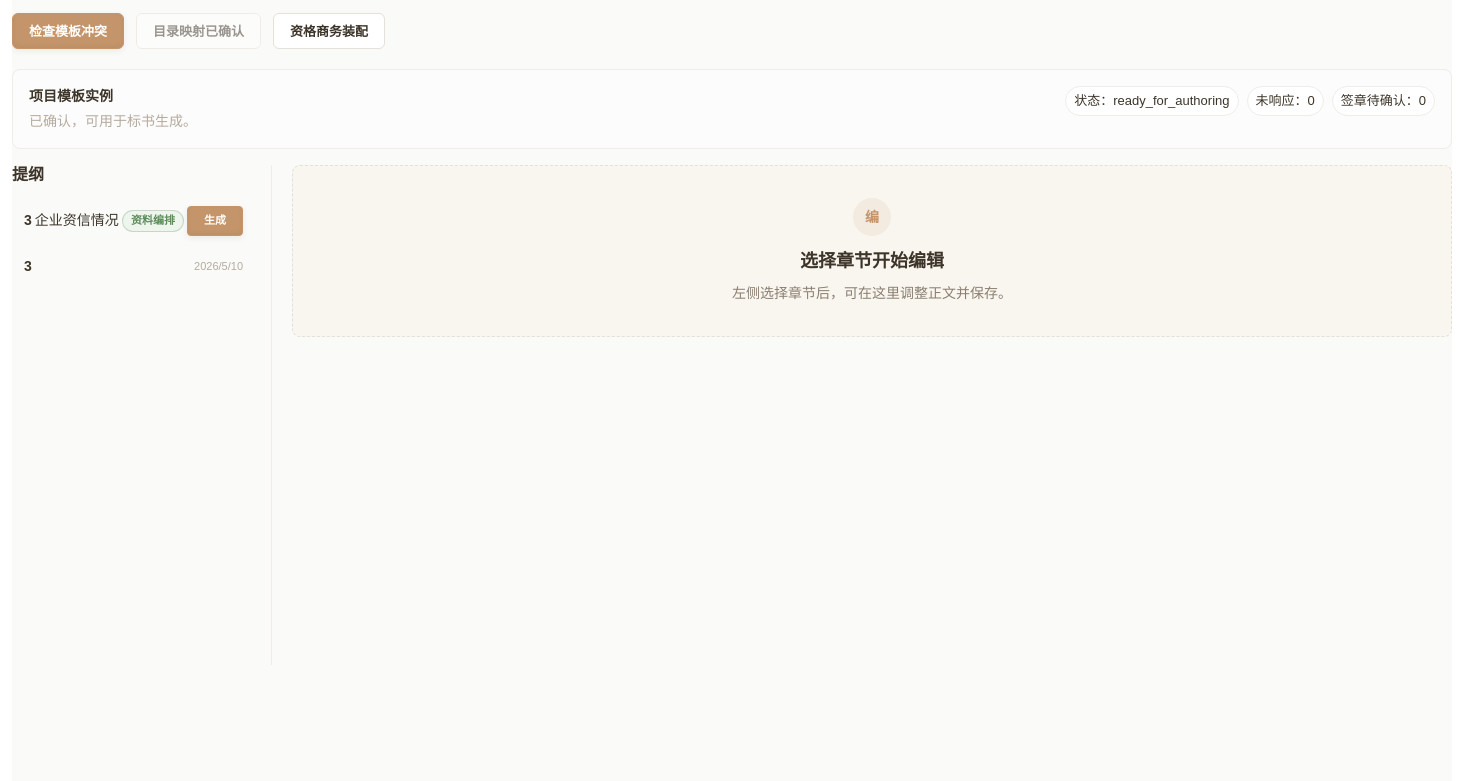
Test: EditorContent chart workflow › shows candidate material groups for a selected business material slot
Click the button "资格商务装配": (329, 31) [273, 13, 385, 49]
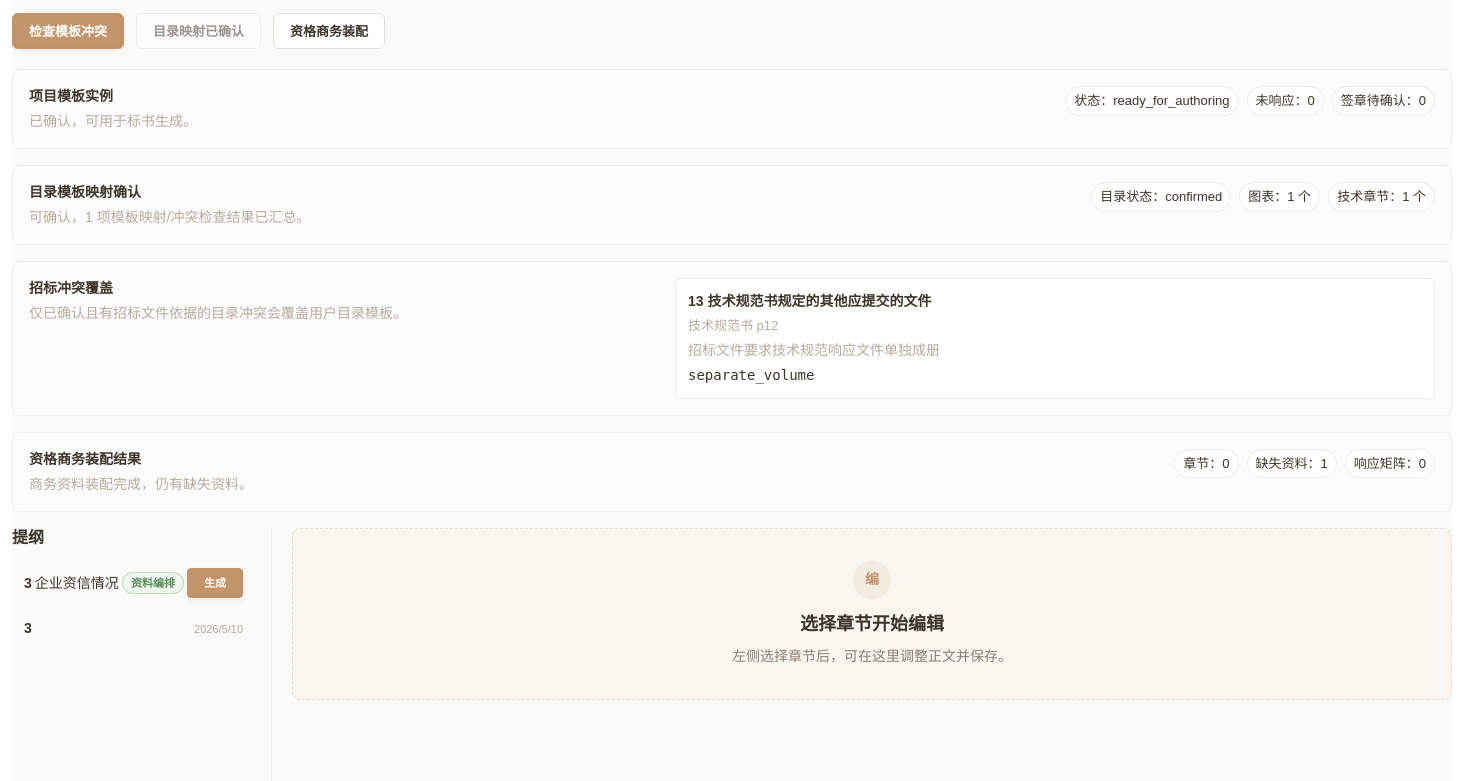
Click the text "3" in the row of "2026/5/10": (28, 629) [24, 618, 32, 639]
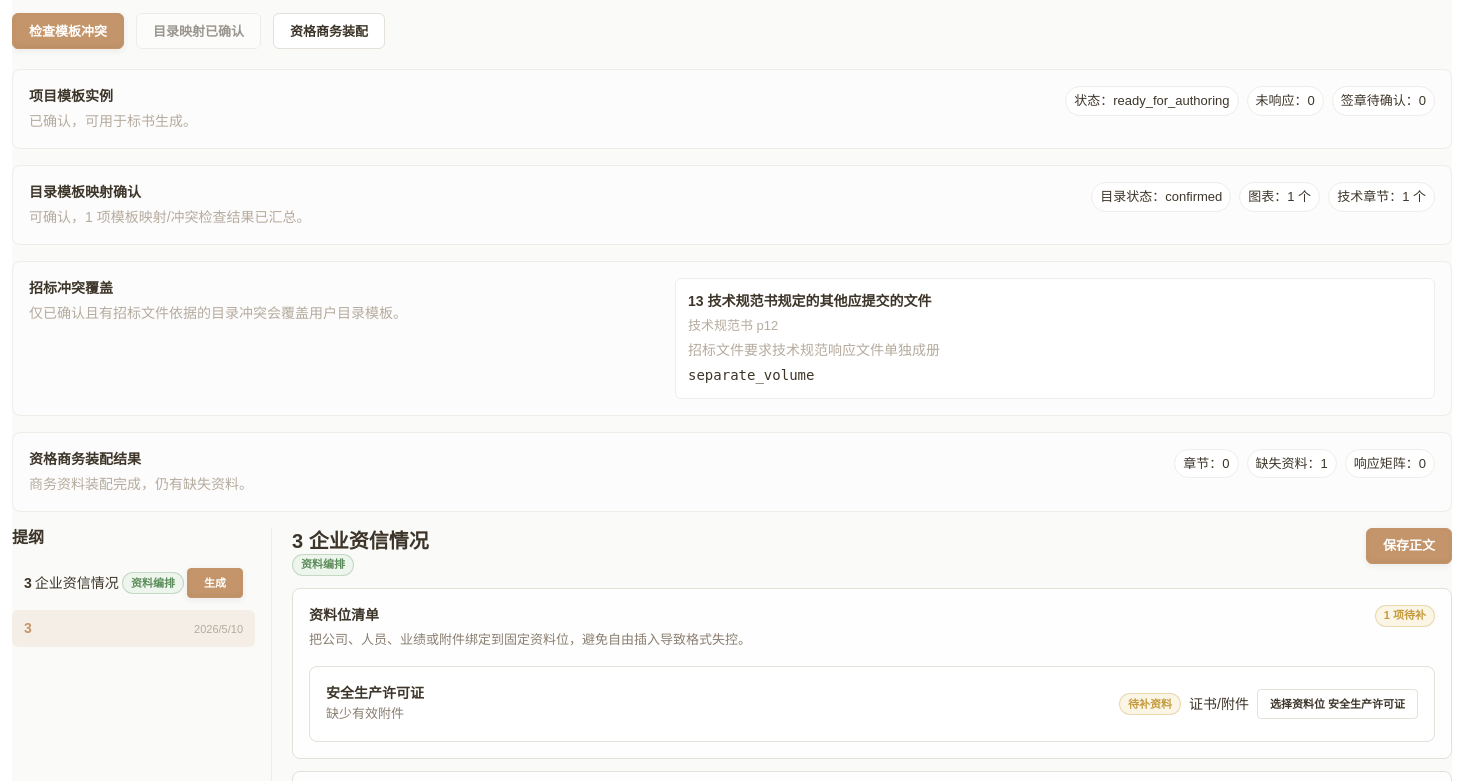
Click the button "选择资料位 安全生产许可证": (1337, 704) [1257, 689, 1418, 719]
(page scrolled)
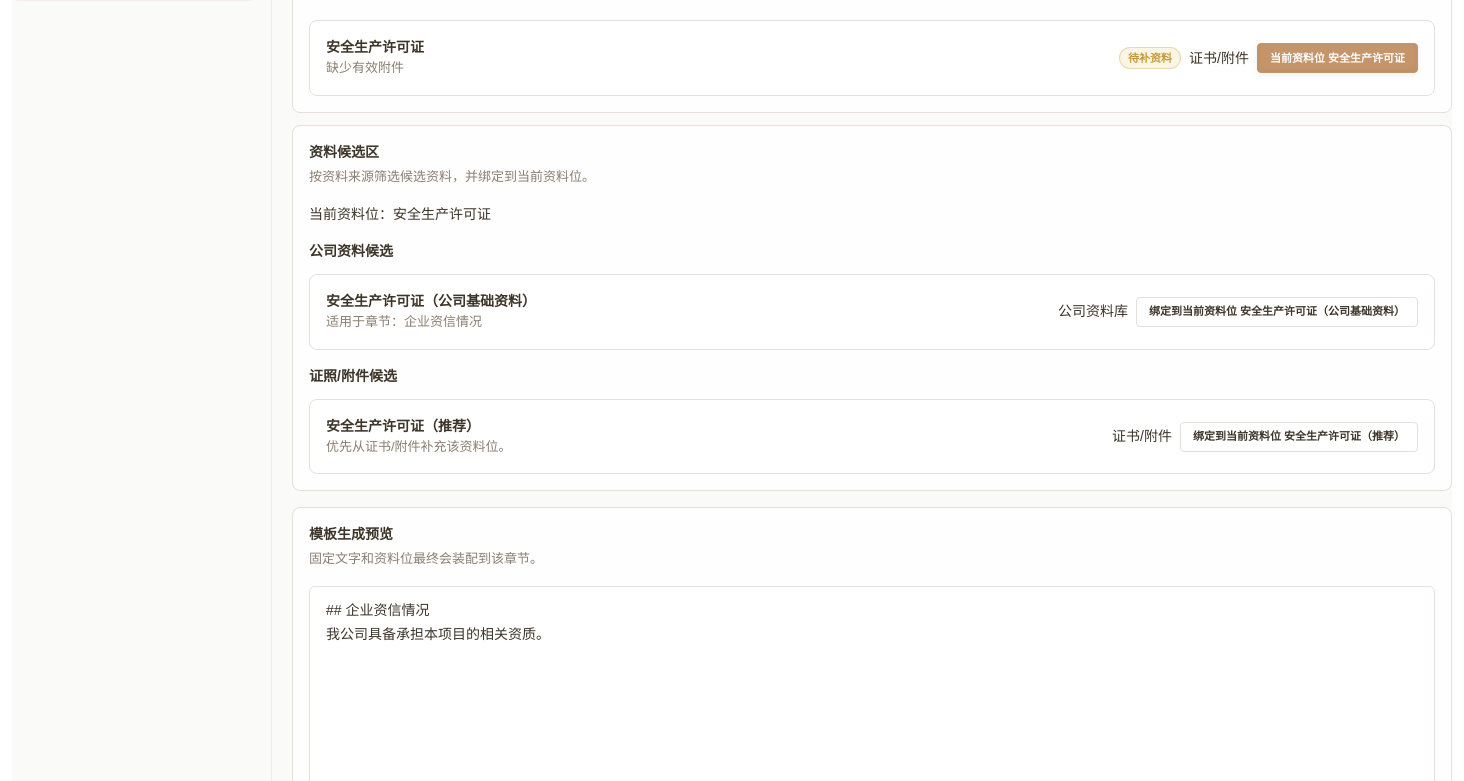
Now the text "资料候选区" is shown, box [309, 144, 379, 160]
Now the text "当前资料位：安全生产许可证" is shown, box [309, 206, 491, 222]
Now the text "公司资料候选" is shown, box [309, 243, 393, 259]
